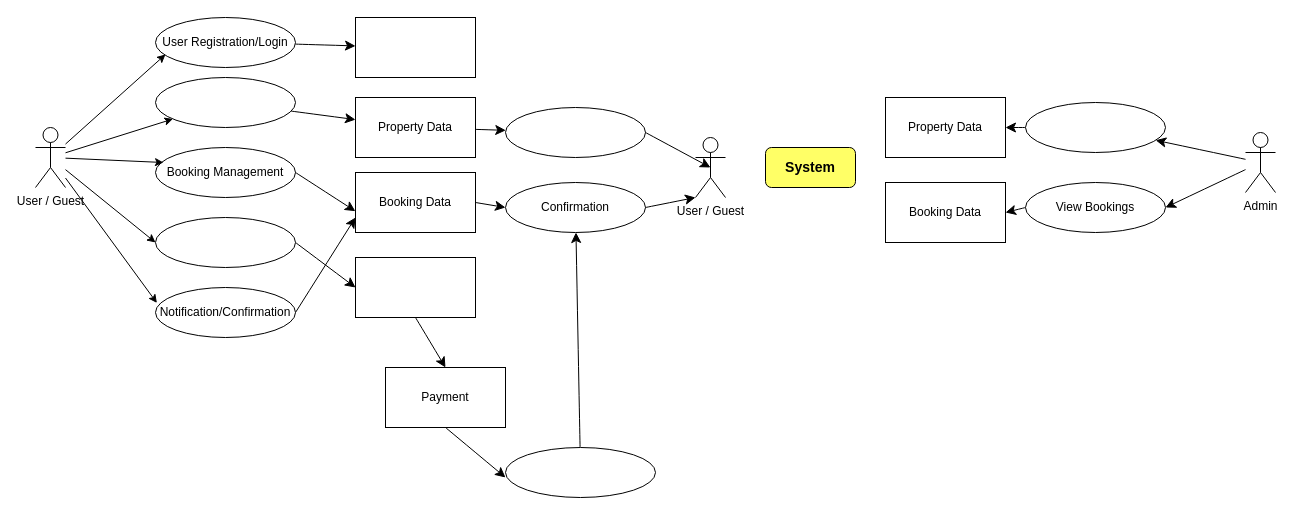
This 1295x515 diagram has some shape labels left out. Each missing label, with the centre of its shape:
API payment processing: the point at 580,472
Manages Properties: the point at 1095,127
Payment Data: the point at 415,287
Payment Processing: the point at 225,242
Property Search: the point at 225,102
Search Results: the point at 575,132
User Data: the point at 415,47
